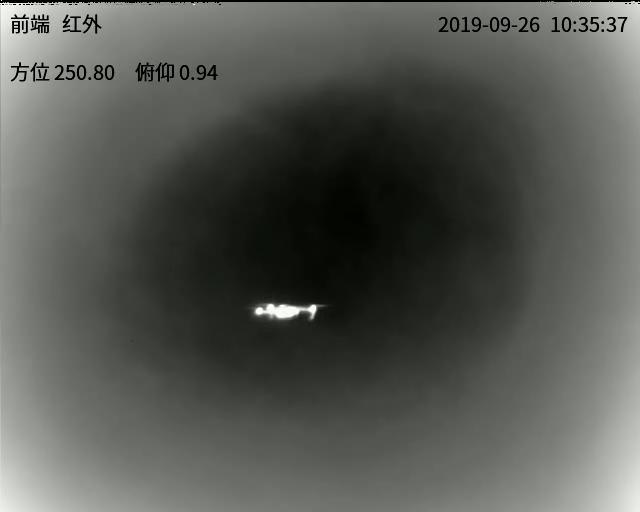uav: (246, 296, 332, 326)
